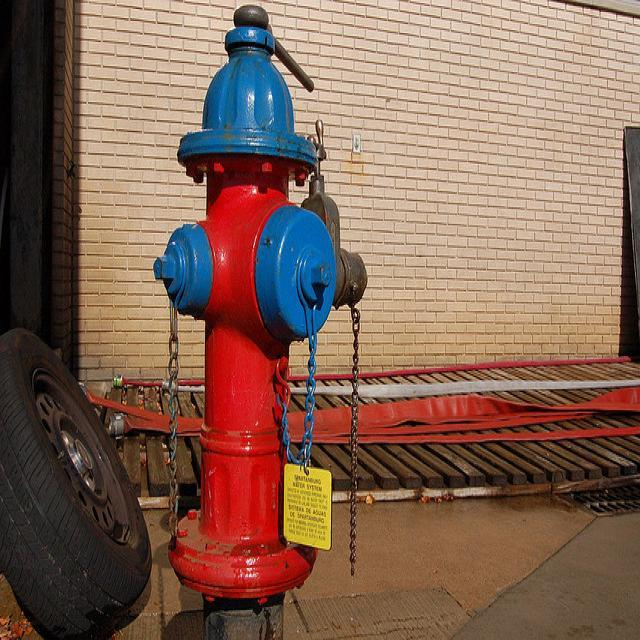fire_hydrant: (153, 3, 366, 639)
